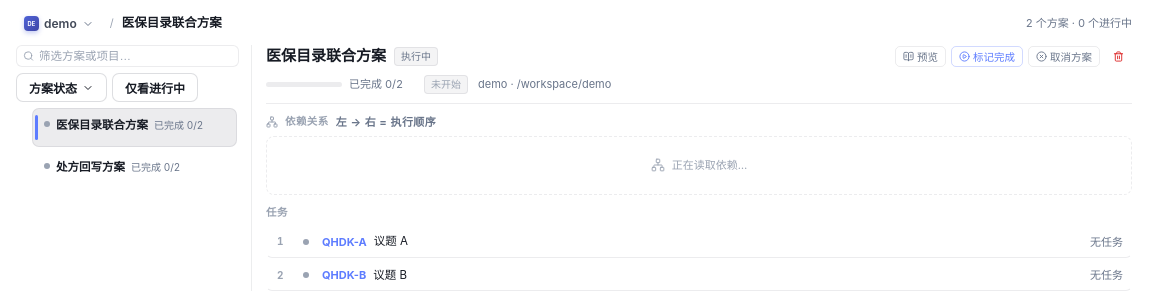
Test case: PlanBoard — 专注单方案的看板 › 搜索框按方案名过滤左栏
In the field with placeholder "筛选方案或项目…": {"x": 128, "y": 56} 16,45 -> 239,67, type "处方"
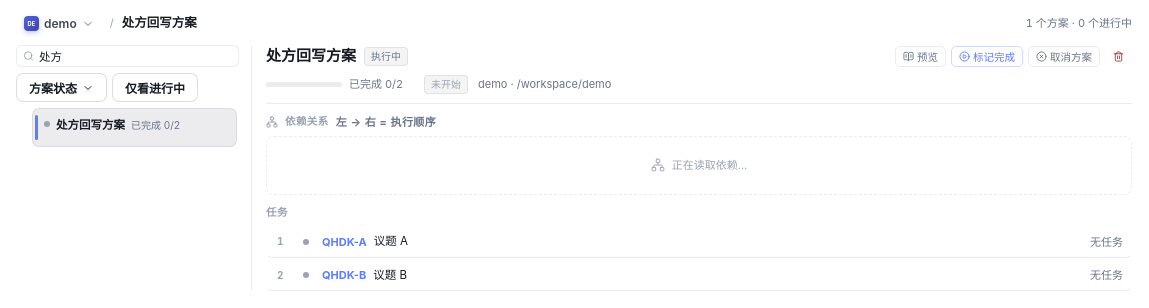
expect the button "处方回写方案 已完成 0/2" is shown: met, box 32,108 -> 237,147
expect the text "医保目录联合方案" is gone: met
